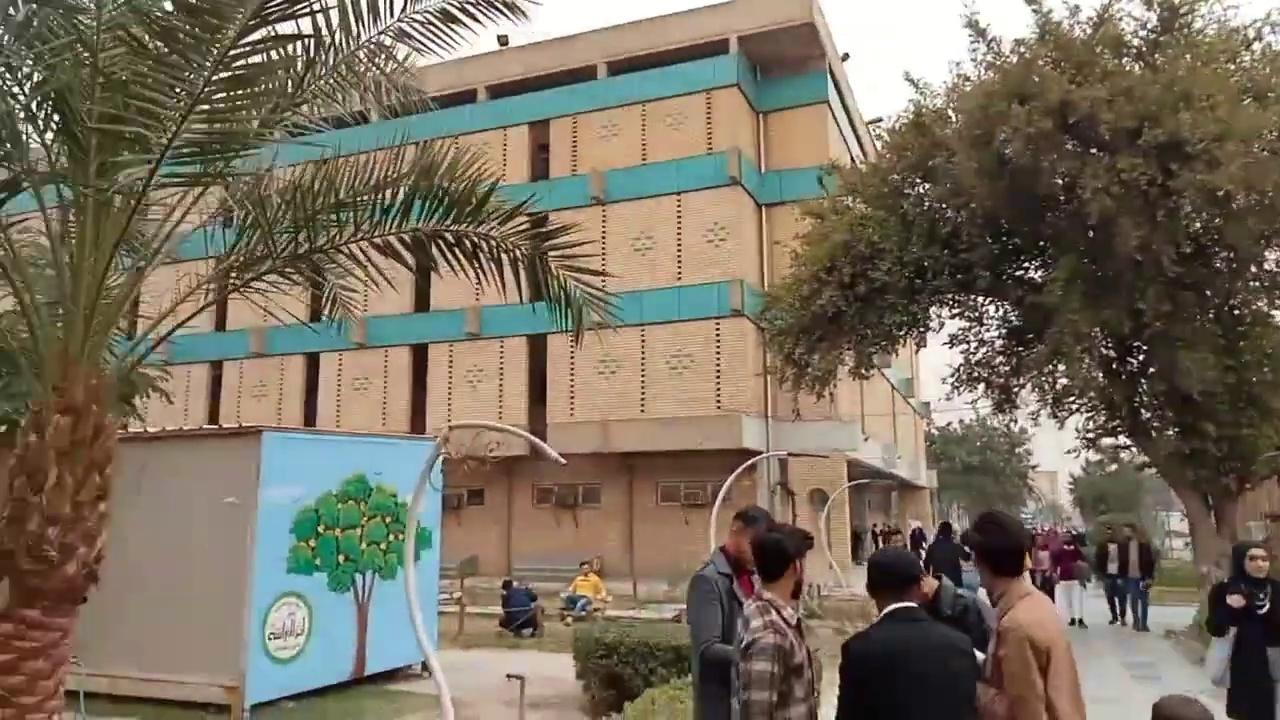person: (960, 509, 1086, 719), (834, 546, 981, 719), (685, 503, 774, 719), (732, 524, 821, 719), (1205, 539, 1279, 719), (558, 561, 610, 625), (498, 578, 543, 637)
tree: (4, 0, 628, 717), (751, 0, 1278, 631), (285, 470, 432, 682), (923, 410, 1045, 529), (570, 606, 693, 718), (1065, 454, 1153, 549)
